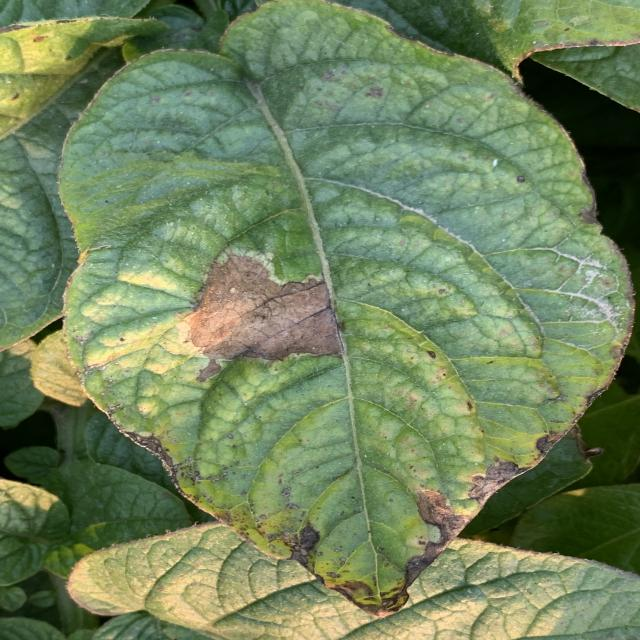lateblight: (278, 514, 462, 612), (185, 254, 340, 360), (468, 458, 525, 505), (418, 490, 428, 500)
